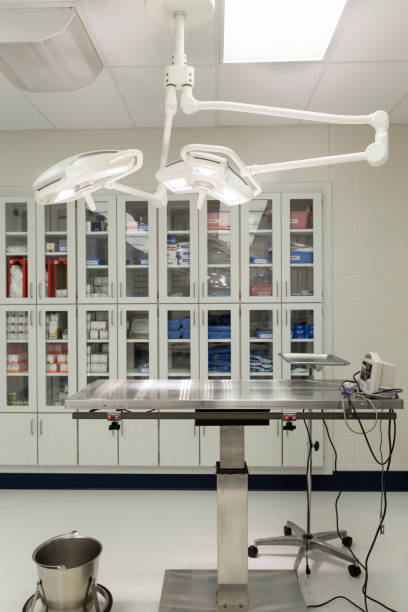cabinet: (1, 200, 324, 468)
handle: (286, 418, 299, 442), (187, 420, 200, 443), (120, 417, 132, 440), (270, 419, 282, 442), (200, 421, 211, 446), (36, 419, 48, 440), (106, 419, 116, 441), (25, 416, 32, 444), (30, 310, 36, 325), (110, 283, 116, 298), (39, 284, 45, 299), (29, 284, 35, 299), (193, 309, 198, 325), (119, 282, 124, 297), (39, 311, 43, 327), (111, 310, 115, 326), (120, 309, 124, 325), (276, 308, 279, 325), (285, 281, 288, 297), (194, 282, 197, 298), (285, 310, 288, 325), (202, 283, 205, 298), (277, 281, 279, 297), (203, 311, 205, 326)
operating_bed: (64, 373, 398, 602)
surgical_light: (157, 139, 267, 216), (30, 137, 135, 217)
utility_cart: (247, 349, 363, 580)
waste_bin: (21, 529, 115, 612)
